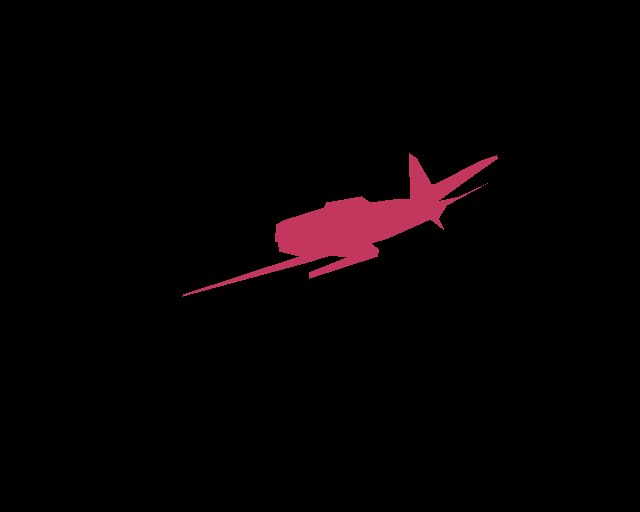Airplane: (182, 153, 498, 297)
